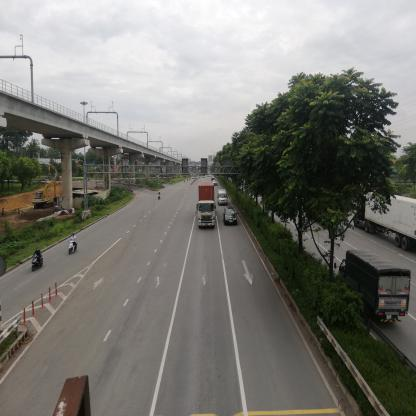car: (223, 209, 237, 226), (220, 190, 227, 206)
container: (199, 183, 216, 229)
motorbike: (31, 251, 49, 277), (69, 235, 77, 257), (159, 191, 162, 201)
truck: (339, 249, 415, 327)
